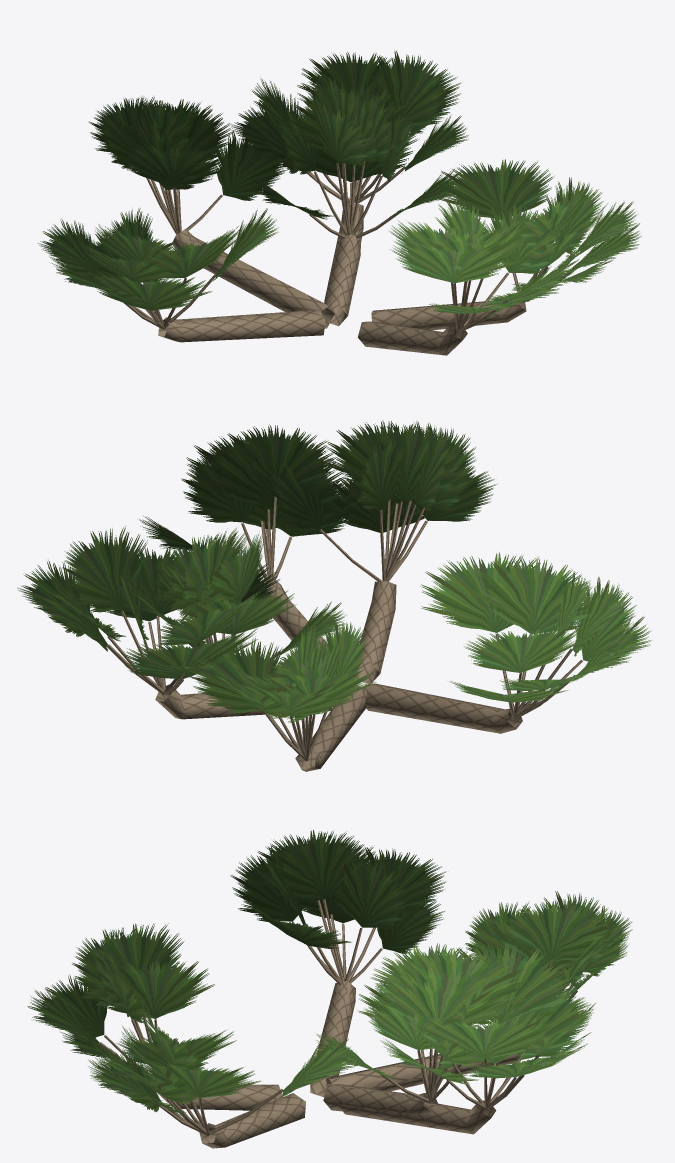
File: veg_saw_palmetto_a.fbx
3 views of the same model, one above another, from view 1: azimuth 30°, elevation 25°; view 2: azimuth 150°, elevation 25°; view 3: azimuth 270°, elevation 25° (orthographic). The views are drawn at different scales.
Visible parts, largest first — view 1: veg_saw_palmetto_a_LOD0; view 2: veg_saw_palmetto_a_LOD0; view 3: veg_saw_palmetto_a_LOD0.
Part boxes in pixels (x1,y1,x2,y2): veg_saw_palmetto_a_LOD0: [38, 50, 641, 355]; veg_saw_palmetto_a_LOD0: [17, 420, 651, 771]; veg_saw_palmetto_a_LOD0: [27, 830, 632, 1148].
Size of what is drawn, in the model's own units: 4.03 by 1.47 by 4.02.
2 materials, 2 textured.
